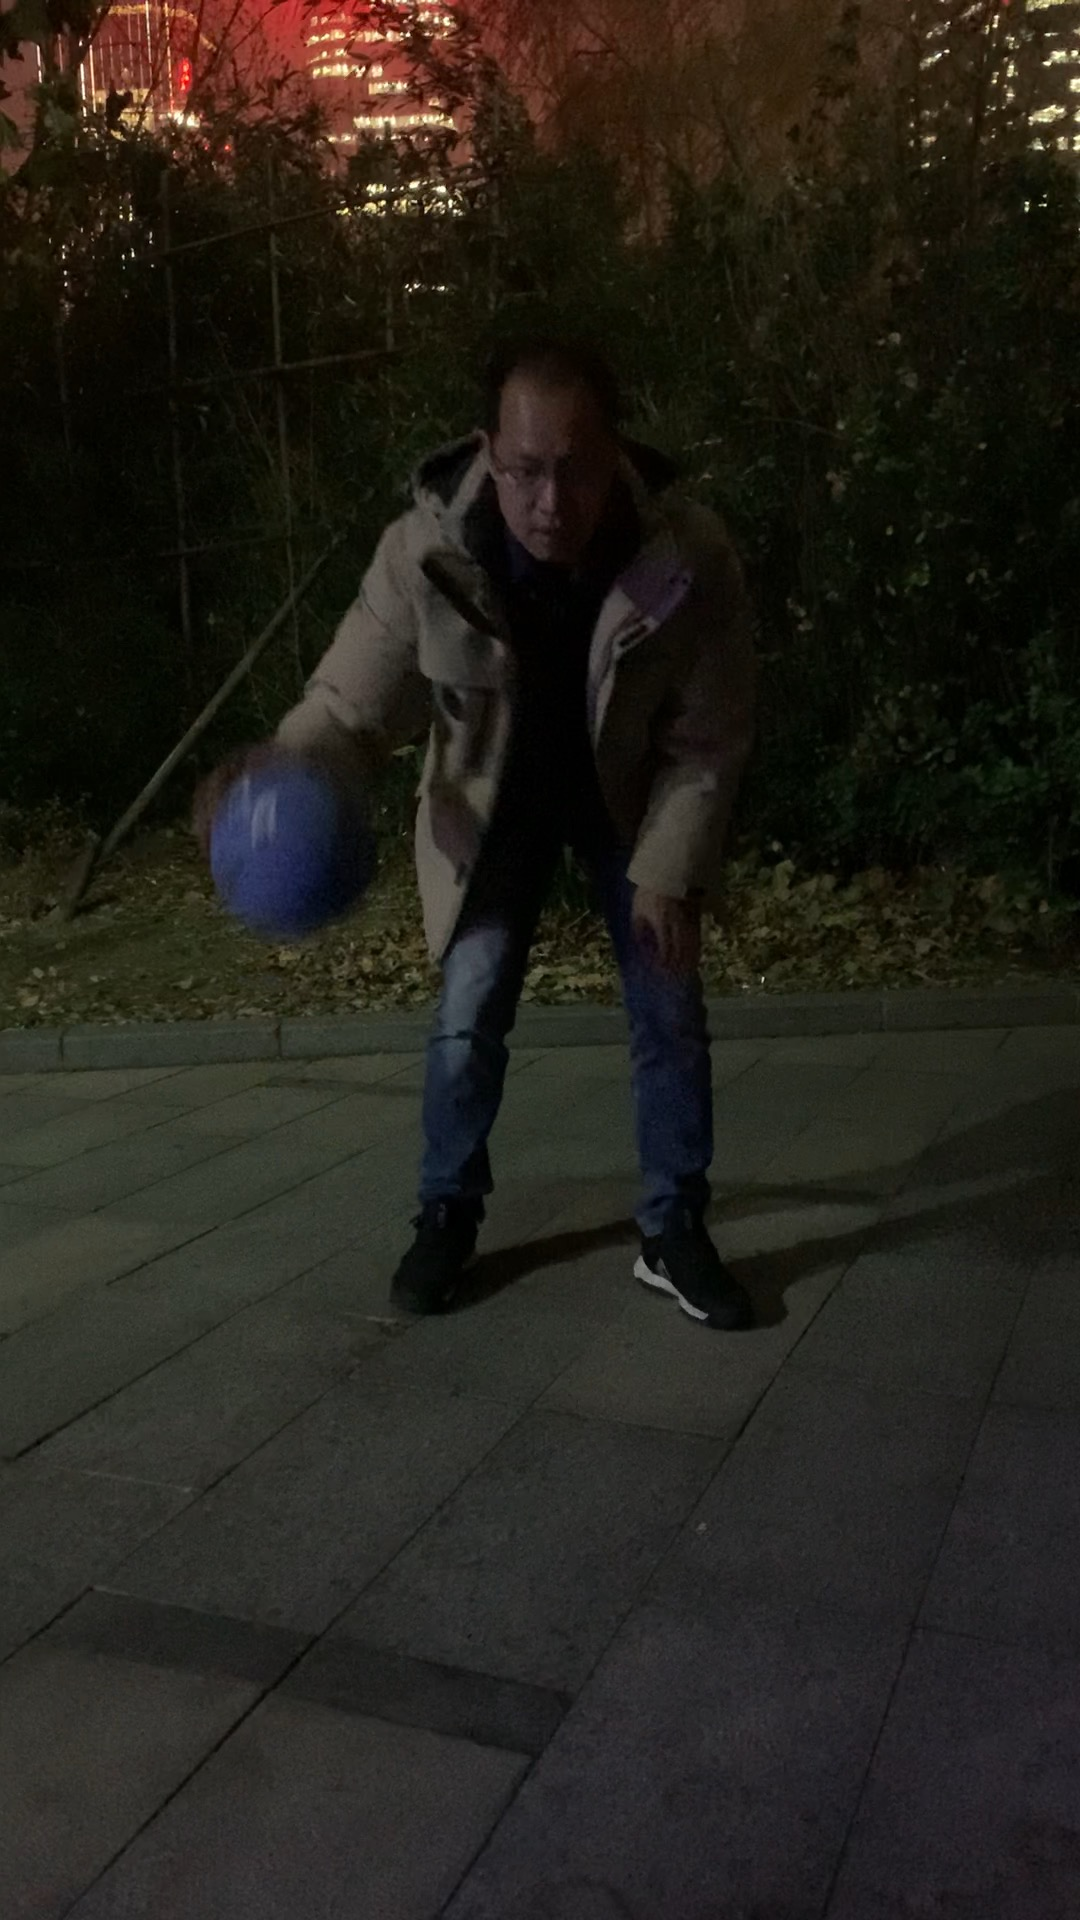ball: (211, 756, 381, 942)
